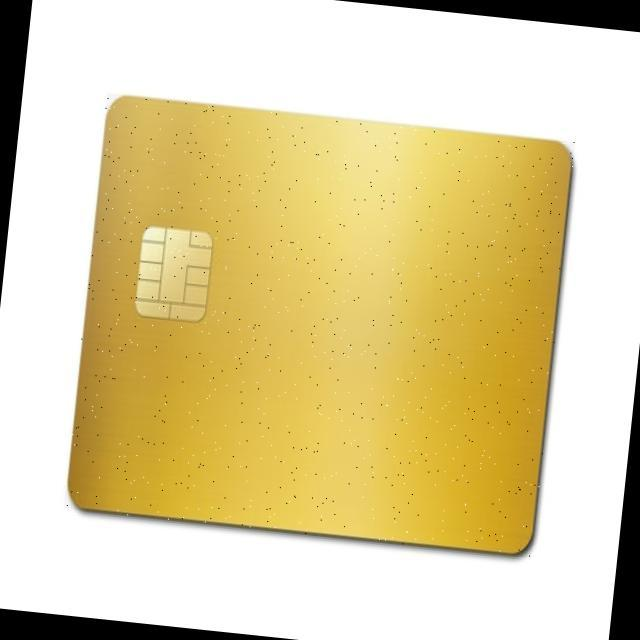payment_card: (66, 92, 574, 556)
